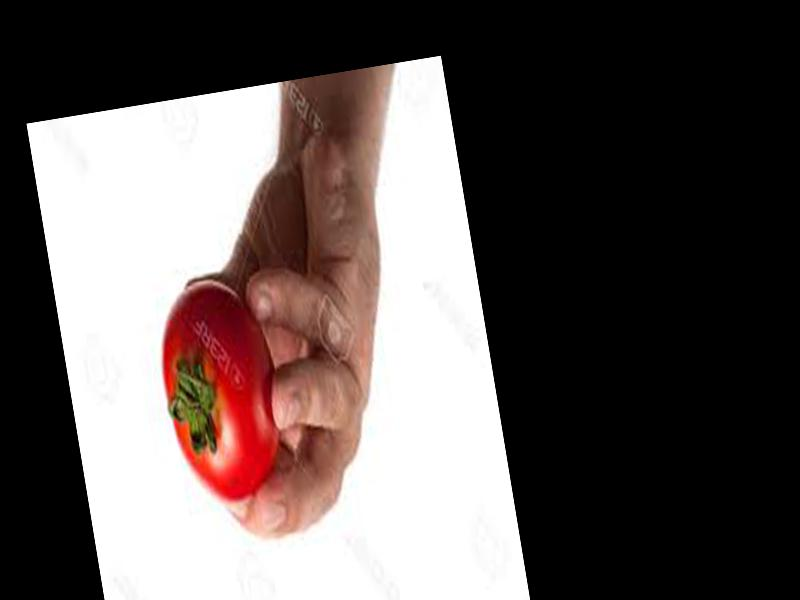Tomato: (148, 274, 292, 509)
